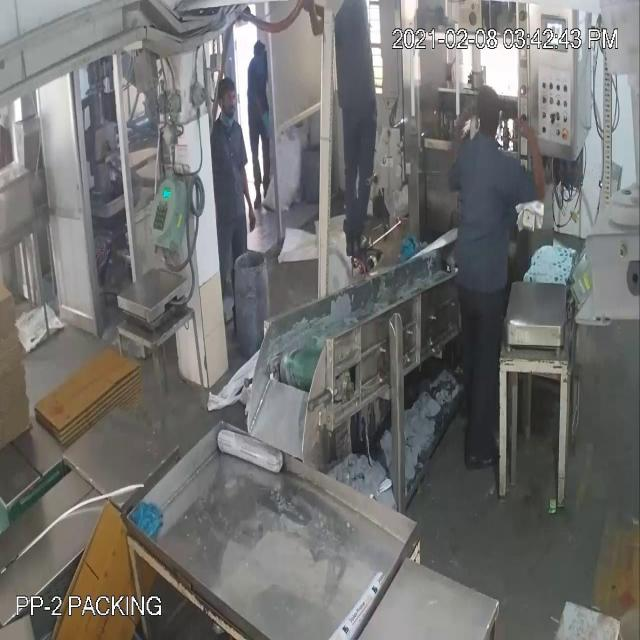No_Gloves: (24, 90, 533, 199)
